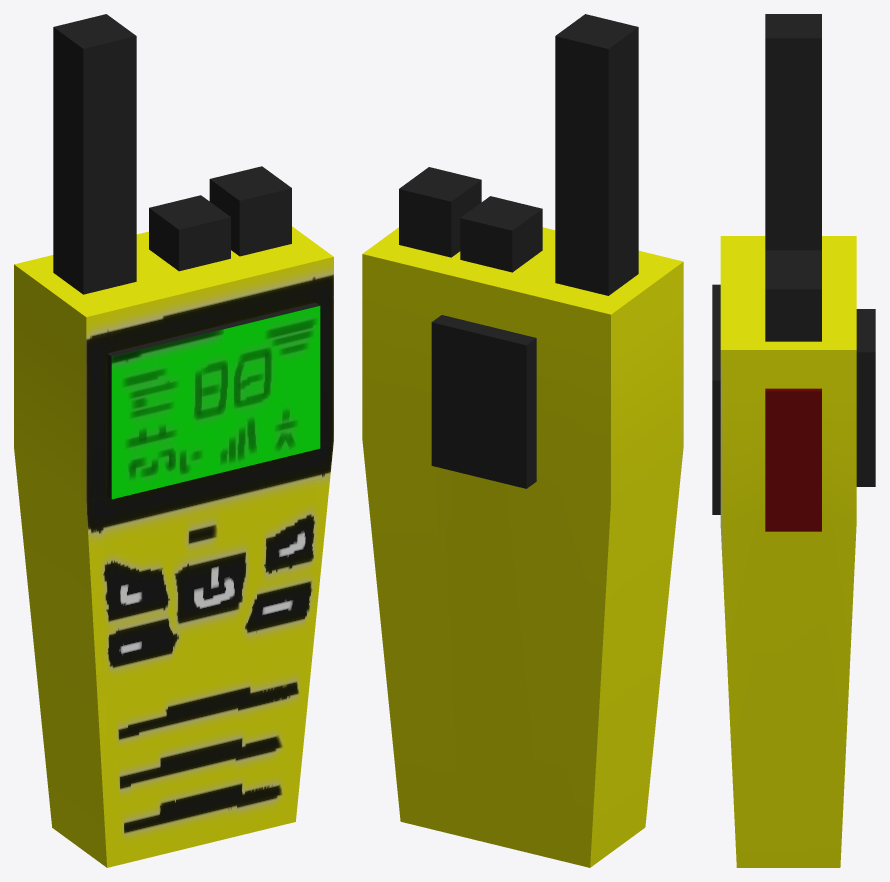
The model's file is Radio.fbx.
The picture shows the model from 3 angles, left to right: view 1: azimuth 30°, elevation 25°; view 2: azimuth 150°, elevation 25°; view 3: azimuth 270°, elevation 25°; orthographic projection. The views are drawn at different scales.
Visible parts, largest first — view 1: pCube1; view 2: pCube1; view 3: pCube1.
Part boxes in pixels (box(x1,y1,x2,y2)): pCube1: box(14, 14, 333, 867); pCube1: box(362, 14, 683, 867); pCube1: box(712, 14, 875, 867).
Size of the model in its own units: 7.38 by 21.53 by 4.18.
